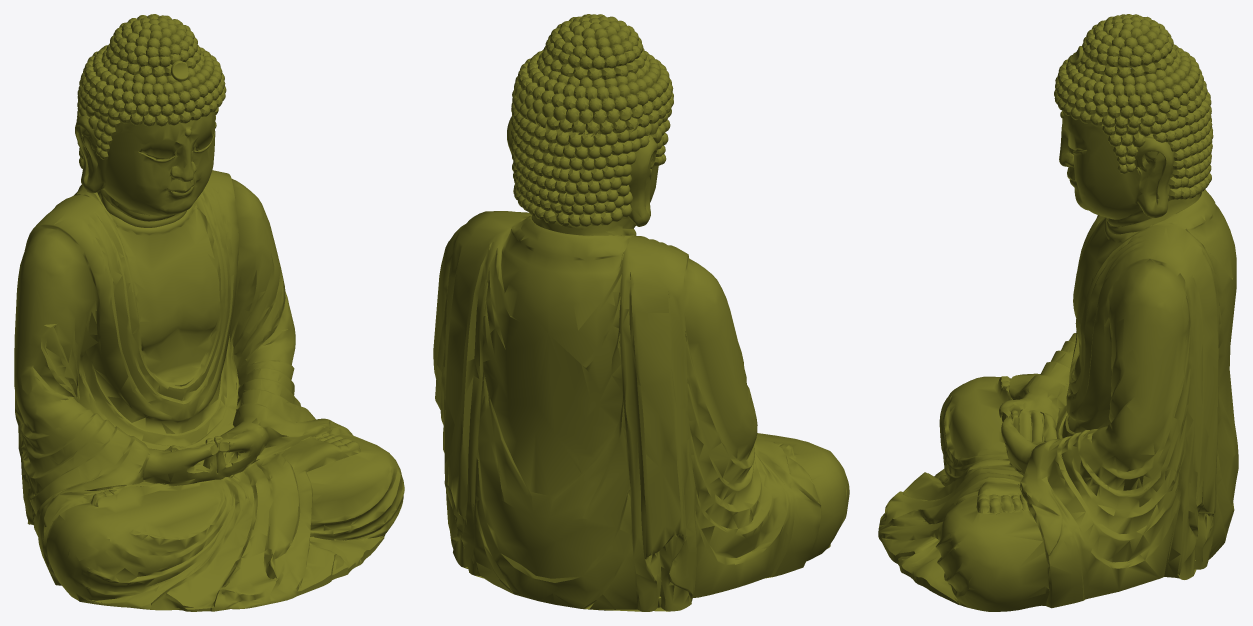
File: Buddha3.FBX
3 renders of one model, left to right at view 1: azimuth 30°, elevation 25°; view 2: azimuth 150°, elevation 25°; view 3: azimuth 270°, elevation 25°, orthographic. The views are drawn at different scales.
Visible parts, largest first — view 1: body; view 2: body; view 3: body.
Boxes of the visible parts, x1=… form: body: x1=14, y1=14, x2=404, y2=611; body: x1=433, y1=14, x2=849, y2=611; body: x1=878, y1=14, x2=1238, y2=611.
Size of the model in its own units: 711 by 1005 by 639.
